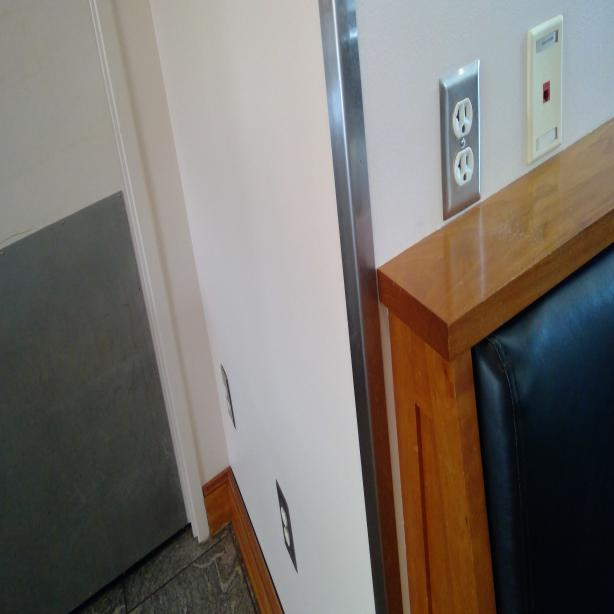typeb: (450, 100, 477, 140), (455, 153, 474, 187)
